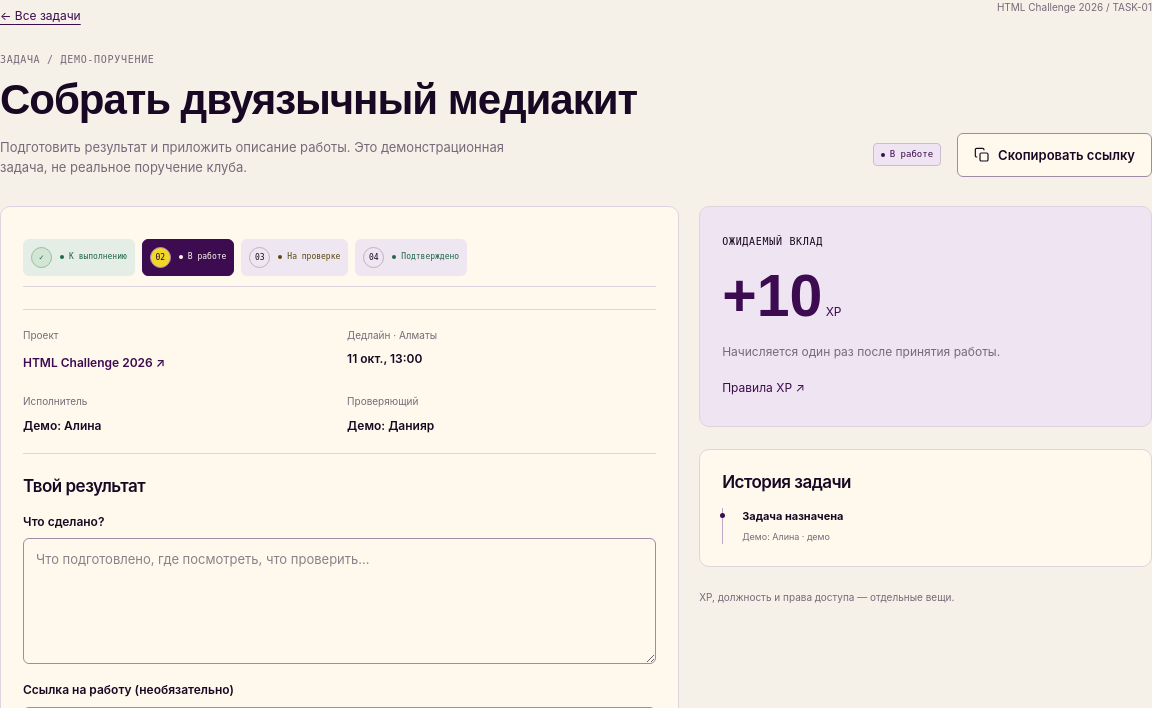
Test: task result form and review interactions › rejects a non-HTTP link before any mutation and explains how to fix it
The width and height of the screenshot is (1152, 708).
Type "Подготовлен результат задачи и проверен перевод." into the text box labelled "Что сделано?" at (340, 602), box [23,538,656,664]
(page scrolled)
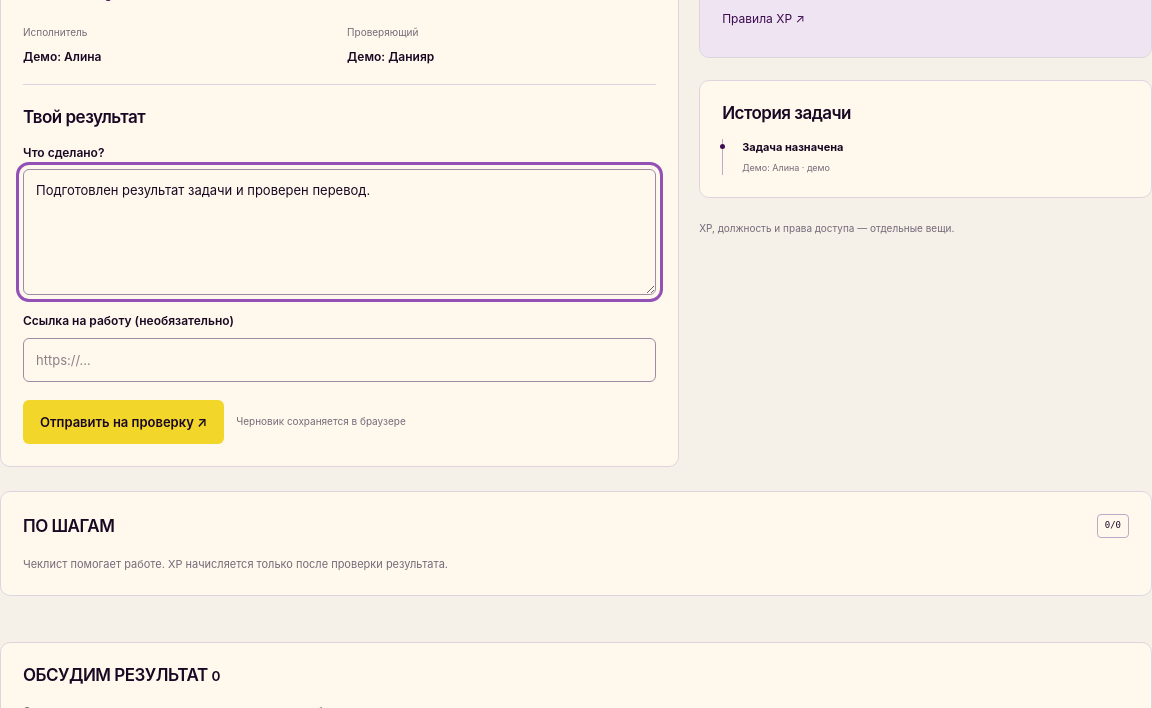
Type "javascript:alert(1)" into the field labelled "Ссылка на работу (необязательно)" at (340, 360), box [23,338,656,382]
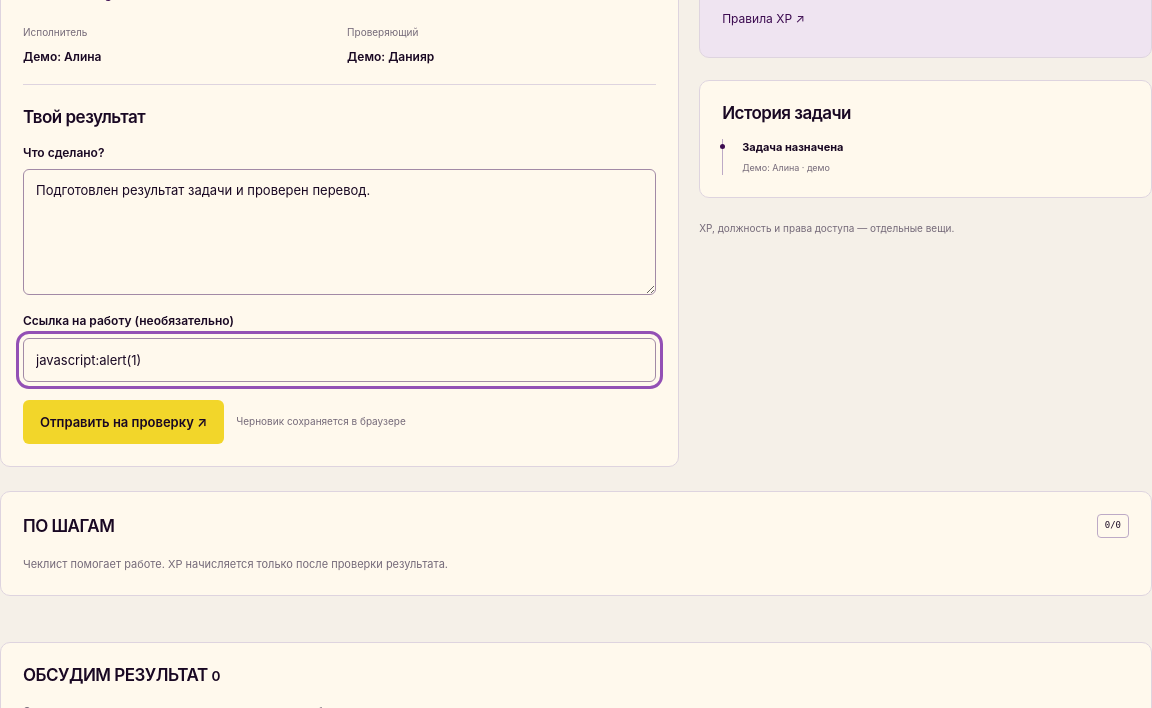
Click the button "Отправить на проверку ↗" at (124, 422), box [23,400,224,444]
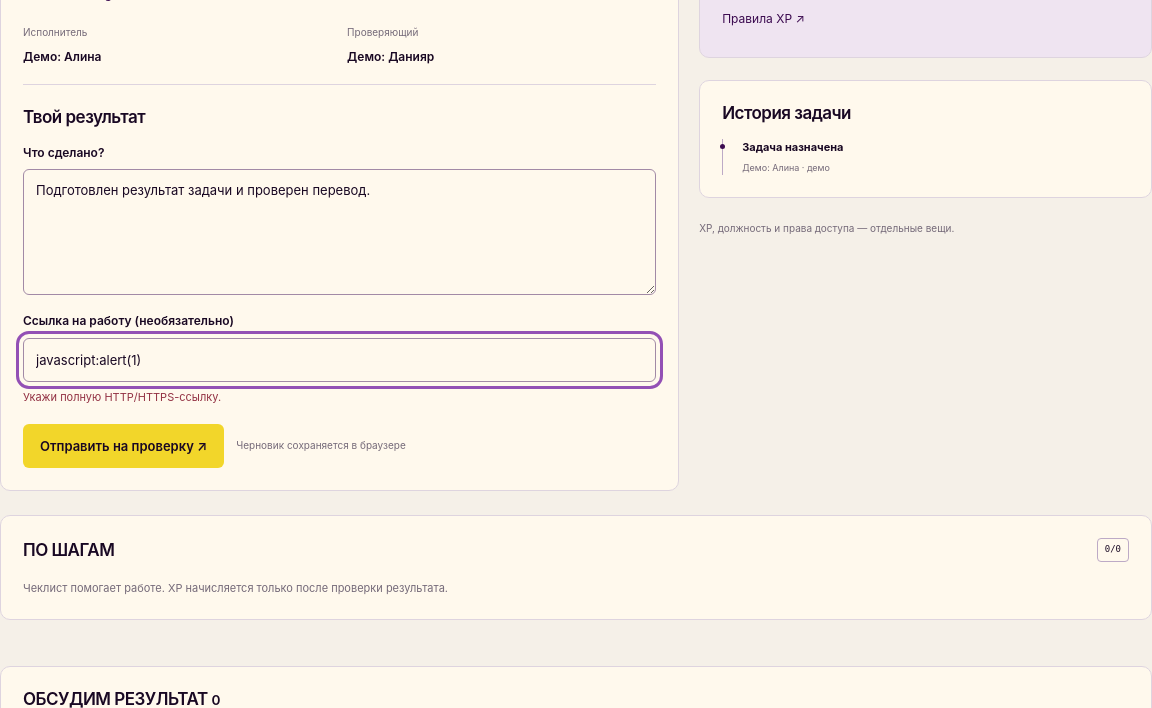
expect the message reads "Укажи полную HTTP/HTTPS-ссылку.": met, box [23,390,221,404]
